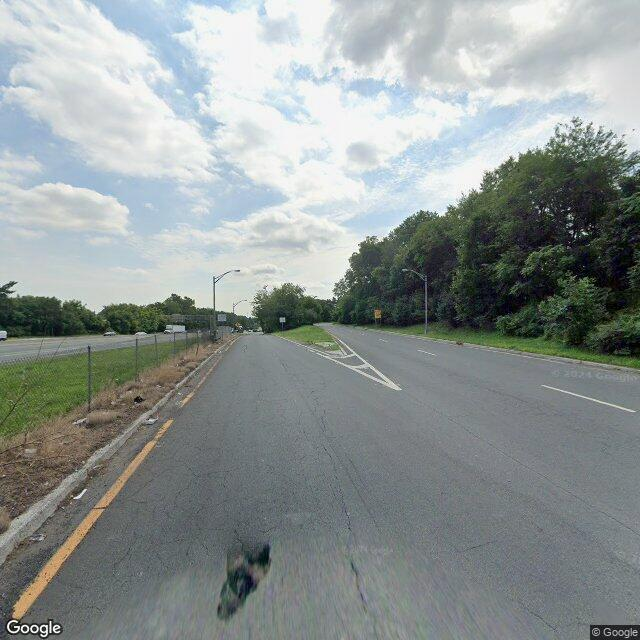pothole: (213, 536, 280, 625)
